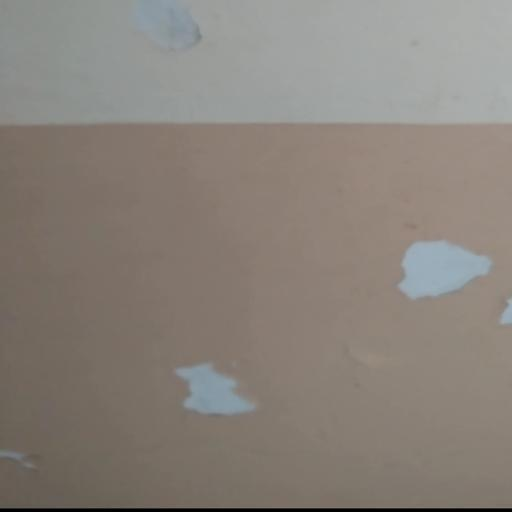peeling: (396, 226, 512, 330), (164, 342, 278, 427), (131, 0, 220, 70), (0, 433, 56, 468)
